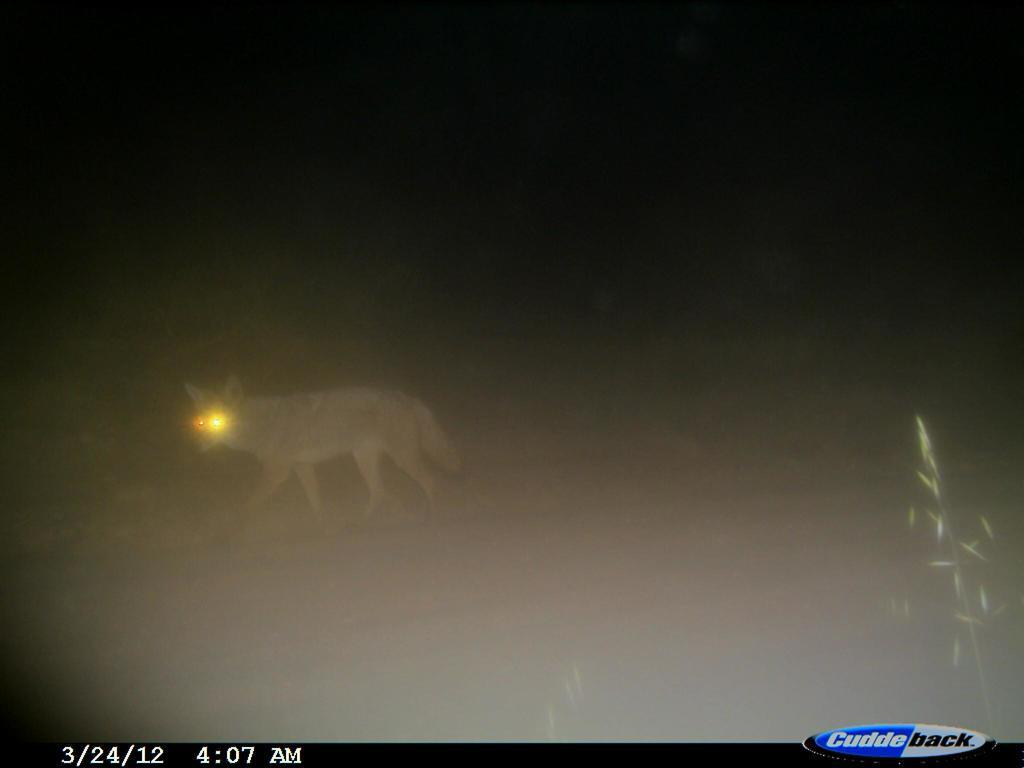coyote: (175, 368, 472, 542)
